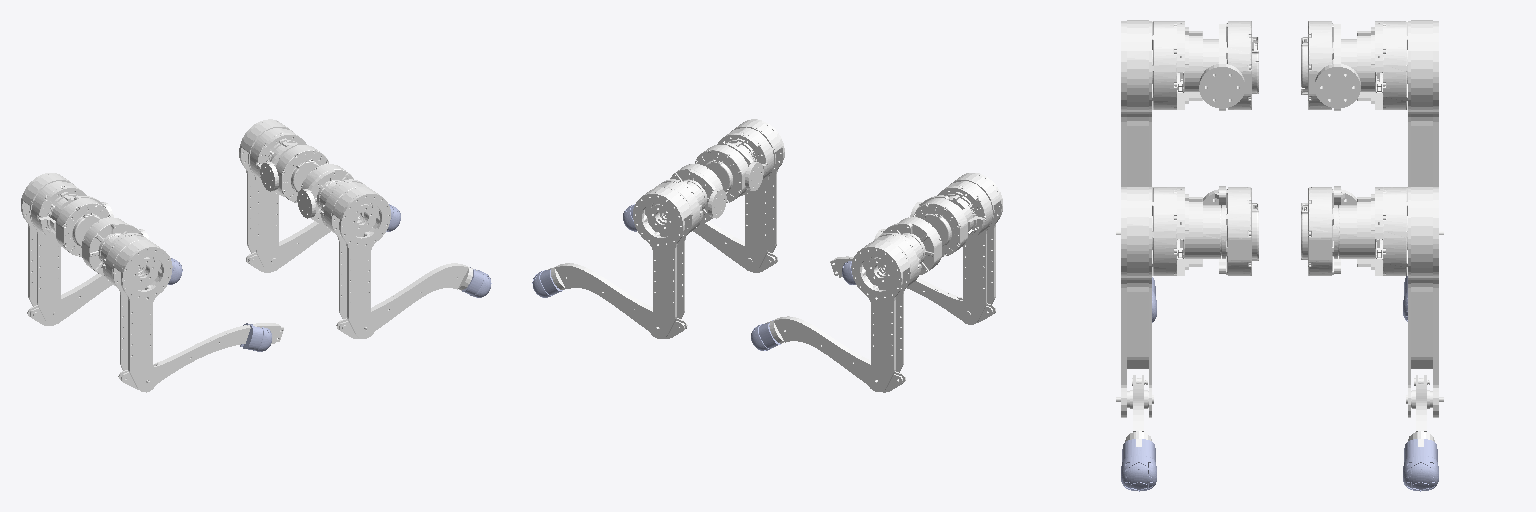
URDF robot description (RCA3):
<?xml version="1.0" encoding="utf-8"?>
<!-- This URDF was automatically created by SolidWorks to URDF Exporter! Originally created by Stephen Brawner (brawner@gmail.com) 
     Commit Version: 1.6.0-4-g7f85cfe  Build Version: 1.6.7995.38578
     For more information, please see http://wiki.ros.org/sw_urdf_exporter -->
<robot
  name="RCA3">
  <link
    name="base">
    <inertial>
      <origin
        xyz="-0.007663 0.00070152 0.044471"
        rpy="0 0 0" />
      <mass
        value="6.5" />
      <inertia
        ixx="0.0422503"
        ixy="0.0001340"
        ixz="0.0000178"
        iyy="0.1133763"
        iyz="-0.0001743"
        izz="0.1335650" />
    </inertial>
    <visual>
      <origin
        xyz="0 0 0"
        rpy="0 0 0" />
      <geometry>
        <mesh
          filename="../meshes/base.STL" />
      </geometry>
      <material
        name="">
        <color
          rgba="1 1 1 1" />
      </material>
    </visual>
    <collision>
      <origin
        xyz="0 0 0.04290"
        rpy="0 0 0" />
      <geometry>
        <box
          size="0.30 0.20000 0.15980" />
      </geometry>
    </collision>
  </link>
  <link
    name="FL_hip">
    <inertial>
      <origin
        xyz="-0.0053275 -0.01473 -5.6037E-05"
        rpy="0 0 0" />
      <mass
        value="0.75" />
      <inertia
        ixx="0.000506153"
        ixy="0.00005690"
        ixz="0.00000137590"
        iyy="0.00094105566"
        iyz="-0.0000005530"
        izz="0.00060520627" />
    </inertial>
    <visual>
      <origin
        xyz="0 0 0"
        rpy="0 0 0" />
      <geometry>
        <mesh
          filename="../meshes/FL_hip.STL" />
      </geometry>
      <material
        name="">
        <color
          rgba="1 1 1 1" />
      </material>
    </visual>
  </link>
  <joint
    name="FL_hip_joint"
    type="revolute">
    <origin
      xyz="0.21285 0.0625 0.05425"
      rpy="0 0 0" />
    <parent
      link="base" />
    <child
      link="FL_hip" />
    <axis
      xyz="1 0 0" />
    <limit
      lower="-1.05"
      upper="1.05"
      effort="23.7"
      velocity="24.8" />
  </joint>
  <link
    name="FL_thigh">
    <inertial>
      <origin
        xyz="-0.0010254 -0.025525 -0.023102"
        rpy="0 0 0" />
      <mass
        value="0.9" />
      <inertia
        ixx="0.00380508"
        ixy="0.0000144621"
        ixz="-0.000105313"
        iyy="0.003499672"
        iyz="0.00064283"
        izz="0.00114430" />
    </inertial>
    <visual>
      <origin
        xyz="0 0 0"
        rpy="0 0 0" />
      <geometry>
        <mesh
          filename="../meshes/FL_thigh.STL" />
      </geometry>
      <material
        name="">
        <color
          rgba="1 1 1 1" />
      </material>
    </visual>
    <collision>
      <origin
        xyz="0 -0.0345 0.0050"
        rpy="1.57079632679 0 0" />
      <geometry>
        <cylinder
          radius="0.045"
          length="0.1068" />
      </geometry>
    </collision>
    <collision>
      <origin
        xyz="-0.011 0.0030 -0.1075"
        rpy="0 0.000 0" />
      <geometry>
        <cylinder
          radius="0.015"
          length="0.115" />
      </geometry>
    </collision>
  </link>
  <joint
    name="FL_thigh_joint"
    type="revolute">
    <origin
      xyz="0 0.0904 0"
      rpy="0 0 0" />
    <parent
      link="FL_hip" />
    <child
      link="FL_thigh" />
    <axis
      xyz="0 1 0" />
    <limit
      lower="-1.57"
      upper="3.49"
      effort="23.7"
      velocity="24.8" />
  </joint>
  <link
    name="FL_calf">
    <inertial>
      <origin
        xyz="0.01968 -1.185E-06 -0.10487"
        rpy="0 0 0" />
      <mass
        value="0.15" />
      <inertia
        ixx="0.000493"
        ixy="-0.0000000006"
        ixz="0.00008487"
        iyy="0.000520527"
        iyz="0.000000014"
        izz="0.00003049" />
    </inertial>
    <visual>
      <origin
        xyz="0 0 0"
        rpy="0 0 0" />
      <geometry>
        <mesh
          filename="../meshes/FL_calf.STL" />
      </geometry>
      <material
        name="">
        <color
          rgba="1 1 1 1" />
      </material>
    </visual>
    <collision>
      <origin
        xyz="0.016 0 -0.07"
        rpy="0 -0.2900 0" />
      <geometry>
        <cylinder
          radius="0.0150"
          length="0.18" />
      </geometry>
    </collision>
  </link>
  <joint
    name="FL_calf_joint"
    type="revolute">
    <origin
      xyz="0 0 -0.2"
      rpy="0 0 0" />
    <parent
      link="FL_thigh" />
    <child
      link="FL_calf" />
    <axis
      xyz="0 1 0" />
    <limit
      lower="-2.45"
      upper="-0.84"
      effort="23.7"
      velocity="24.8" />
  </joint>
  <link
    name="FL_foot">
    <inertial>
      <origin
        xyz="0.0067534 0.00026524 0.0092341"
        rpy="0 0 0" />
      <mass
        value="0.05" />
      <inertia
        ixx="0.000012"
        ixy="-0.00000004"
        ixz="-0.0000008"
        iyy="0.00001368"
        iyz="-0.000000055"
        izz="0.00001144" />
    </inertial>
    <visual>
      <origin
        xyz="0 0 0"
        rpy="0 0 0" />
      <geometry>
        <mesh
          filename="../meshes/FL_foot.STL" />
      </geometry>
      <material
        name="">
        <color
          rgba="0.79216 0.81961 0.93333 1" />
      </material>
    </visual>
    <collision>
      <origin
        xyz="0.0030 0.0002 0.0040"
        rpy="0 0 0" />
      <geometry>
        <sphere
          radius="0.02" />
      </geometry>
    </collision>
    <collision>
      <origin
        xyz="0.027 0.0002 0.038"
        rpy="0 -0.9 0" />
      <geometry>
        <box
          size="0.034 0.026 0.033" />
      </geometry>
    </collision>
  </link>
  <joint
    name="FL_foot_joint"
    type="fixed"
    dont_collapse="true">
    <origin
      xyz="-9.4519E-05 -0.0005 -0.23563"
      rpy="0 0 0" />
    <parent
      link="FL_calf" />
    <child
      link="FL_foot" />
    <axis
      xyz="0 0 0" />
  </joint>
  <link
    name="FR_hip">
    <inertial>
      <origin
        xyz="-0.0053275 0.01473 5.6037E-05"
        rpy="0 0 0" />
      <mass
        value="0.75" />
      <inertia
        ixx="0.000506153"
        ixy="-0.00005690"
        ixz="-0.00000137590"
        iyy="0.00094105566"
        iyz="-0.0000005530"
        izz="0.00060520627" />
    </inertial>
    <visual>
      <origin
        xyz="0 0 0"
        rpy="0 0 0" />
      <geometry>
        <mesh
          filename="../meshes/FR_hip.STL" />
      </geometry>
      <material
        name="">
        <color
          rgba="1 1 1 1" />
      </material>
    </visual>
  </link>
  <joint
    name="FR_hip_joint"
    type="revolute">
    <origin
      xyz="0.21285 -0.0625 0.05425"
      rpy="0 0 0" />
    <parent
      link="base" />
    <child
      link="FR_hip" />
    <axis
      xyz="1 0 0" />
    <limit
      lower="-1.05"
      upper="1.05"
      effort="23.7"
      velocity="24.8" />
  </joint>
  <link
    name="FR_thigh">
    <inertial>
      <origin
        xyz="-0.0010254 0.025525 -0.023102"
        rpy="0 0 0" />
      <mass
        value="0.9" />
      <inertia
        ixx="0.00380508"
        ixy="-0.0000144621"
        ixz="-0.000105313"
        iyy="0.003499672"
        iyz="-0.00064283"
        izz="0.00114430" />
    </inertial>
    <visual>
      <origin
        xyz="0 0 0"
        rpy="0 0 0" />
      <geometry>
        <mesh
          filename="../meshes/FR_thigh.STL" />
      </geometry>
      <material
        name="">
        <color
          rgba="1 1 1 1" />
      </material>
    </visual>
    <collision>
      <origin
        xyz="0 0.0345 0.0050"
        rpy="1.57079632679 0 0" />
      <geometry>
        <cylinder
          radius="0.045"
          length="0.1068" />
      </geometry>
    </collision>
    <collision>
      <origin
        xyz="-0.011 -0.0030 -0.1075"
        rpy="0 0.0 0" />
      <geometry>
        <cylinder
          radius="0.015"
          length="0.115" />
      </geometry>
    </collision>
  </link>
  <joint
    name="FR_thigh_joint"
    type="revolute">
    <origin
      xyz="0 -0.0904 0"
      rpy="0 0 0" />
    <parent
      link="FR_hip" />
    <child
      link="FR_thigh" />
    <axis
      xyz="0 1 0" />
    <limit
      lower="-1.57"
      upper="3.49"
      effort="23.7"
      velocity="24.8" />
  </joint>
  <link
    name="FR_calf">
    <inertial>
      <origin
        xyz="0.01968 -1.185E-06 -0.10487"
        rpy="0 0 0" />
      <mass
        value="0.15" />
      <inertia
        ixx="0.000493"
        ixy="-0.0000000006"
        ixz="0.00008487"
        iyy="0.000520527"
        iyz="0.000000014"
        izz="0.00003049" />
    </inertial>
    <visual>
      <origin
        xyz="0 0 0"
        rpy="0 0 0" />
      <geometry>
        <mesh
          filename="../meshes/FR_calf.STL" />
      </geometry>
      <material
        name="">
        <color
          rgba="1 1 1 1" />
      </material>
    </visual>
    <collision>
      <origin
        xyz="0.016 0 -0.07"
        rpy="0 -0.2900 0" />
      <geometry>
        <cylinder
          radius="0.0150"
          length="0.18" />
      </geometry>
    </collision>
  </link>
  <joint
    name="FR_calf_joint"
    type="revolute">
    <origin
      xyz="0 0 -0.2"
      rpy="0 0 0" />
    <parent
      link="FR_thigh" />
    <child
      link="FR_calf" />
    <axis
      xyz="0 1 0" />
    <limit
      lower="-2.45"
      upper="-0.84"
      effort="23.7"
      velocity="24.8" />
  </joint>
  <link
    name="FR_foot">
    <inertial>
      <origin
        xyz="0.0067531 -0.00026524 0.0092343"
        rpy="0 0 0" />
      <mass
        value="0.05" />
      <inertia
        ixx="0.000012"
        ixy="0.00000004"
        ixz="-0.0000008"
        iyy="0.00001368"
        iyz="0.000000055"
        izz="0.00001144" />
    </inertial>
    <visual>
      <origin
        xyz="0 0 0"
        rpy="0 0 0" />
      <geometry>
        <mesh
          filename="../meshes/FR_foot.STL" />
      </geometry>
      <material
        name="">
        <color
          rgba="0.79216 0.81961 0.93333 1" />
      </material>
    </visual>
    <collision>
      <origin
        xyz="0.0030 -0.0002 0.0040"
        rpy="0 0 0" />
      <geometry>
        <sphere
          radius="0.02" />
      </geometry>
    </collision>
    <collision>
      <origin
        xyz="0.0270 -0.0002 0.038"
        rpy="0 -0.9 0" />
      <geometry>
        <box
          size="0.034 0.026 0.033" />
      </geometry>
    </collision>
  </link>
  <joint
    name="FR_foot_joint"
    type="fixed"
    dont_collapse="true">
    <origin
      xyz="-9.45E-05 0.0005 -0.23563"
      rpy="0 0 0" />
    <parent
      link="FR_calf" />
    <child
      link="FR_foot" />
    <axis
      xyz="0 0 0" />
  </joint>
  <link
    name="RL_hip">
    <inertial>
      <origin
        xyz="0.0053275 -0.01473 5.6037E-05"
        rpy="0 0 0" />
      <mass
        value="0.75" />
      <inertia
        ixx="0.000506153"
        ixy="-0.00005690"
        ixz="0.00000137590"
        iyy="0.00094105566"
        iyz="0.0000005530"
        izz="0.00060520627" />
    </inertial>
    <visual>
      <origin
        xyz="0 0 0"
        rpy="0 0 0" />
      <geometry>
        <mesh
          filename="../meshes/RL_hip.STL" />
      </geometry>
      <material
        name="">
        <color
          rgba="1 1 1 1" />
      </material>
    </visual>
  </link>
  <joint
    name="RL_hip_joint"
    type="revolute">
    <origin
      xyz="-0.21285 0.0625 0.05425"
      rpy="0 0 0" />
    <parent
      link="base" />
    <child
      link="RL_hip" />
    <axis
      xyz="1 0 0" />
    <limit
      lower="-1.05"
      upper="1.05"
      effort="23.7"
      velocity="24.8" />
  </joint>
  <link
    name="RL_thigh">
    <inertial>
      <origin
        xyz="-0.0010254 -0.025525 -0.023102"
        rpy="0 0 0" />
      <mass
        value="0.9" />
      <inertia
        ixx="0.00380508"
        ixy="0.0000144621"
        ixz="-0.000105313"
        iyy="0.003499672"
        iyz="0.00064283"
        izz="0.00114430" />
    </inertial>
    <visual>
      <origin
        xyz="0 0 0"
        rpy="0 0 0" />
      <geometry>
        <mesh
          filename="../meshes/RL_thigh.STL" />
      </geometry>
      <material
        name="">
        <color
          rgba="1 1 1 1" />
      </material>
    </visual>
    <collision>
      <origin
        xyz="0 -0.0345 0.0050"
        rpy="1.57079632679 0 0" />
      <geometry>
        <cylinder
          radius="0.045"
          length="0.1068" />
      </geometry>
    </collision>
    <collision>
      <origin
        xyz="-0.011 0.0030 -0.1075"
        rpy="0 0.0 0" />
      <geometry>
        <cylinder
          radius="0.015"
          length="0.115" />
      </geometry>
    </collision>
  </link>
  <joint
    name="RL_thigh_joint"
    type="revolute">
    <origin
      xyz="0 0.0904 0"
      rpy="0 0 0" />
    <parent
      link="RL_hip" />
    <child
      link="RL_thigh" />
    <axis
      xyz="0 1 0" />
    <limit
      lower="-0.52"
      upper="4.54"
      effort="23.7"
      velocity="24.8" />
  </joint>
  <link
    name="RL_calf">
    <inertial>
      <origin
        xyz="0.01968 -1.185E-06 -0.10487"
        rpy="0 0 0" />
      <mass
        value="0.15" />
      <inertia
        ixx="0.000493"
        ixy="-0.0000000006"
        ixz="0.00008487"
        iyy="0.000520527"
        iyz="0.000000014"
        izz="0.00003049" />
    </inertial>
    <visual>
      <origin
        xyz="0 0 0"
        rpy="0 0 0" />
      <geometry>
        <mesh
          filename="../meshes/RL_calf.STL" />
      </geometry>
      <material
        name="">
        <color
          rgba="1 1 1 1" />
      </material>
    </visual>
    <collision>
      <origin
        xyz="0.016 0 -0.07"
        rpy="0 -0.2900 0" />
      <geometry>
        <cylinder
          radius="0.0150"
          length="0.18" />
      </geometry>
    </collision>
  </link>
  <joint
    name="RL_calf_joint"
    type="revolute">
    <origin
      xyz="0 0 -0.2"
      rpy="0 0 0" />
    <parent
      link="RL_thigh" />
    <child
      link="RL_calf" />
    <axis
      xyz="0 1 0" />
    <limit
      lower="-2.45"
      upper="-0.84"
      effort="23.7"
      velocity="24.8" />
  </joint>
  <link
    name="RL_foot">
    <inertial>
      <origin
        xyz="0.0067534 0.00026524 0.0092341"
        rpy="0 0 0" />
      <mass
        value="0.05" />
      <inertia
        ixx="0.000012"
        ixy="-0.00000004"
        ixz="-0.0000008"
        iyy="0.00001368"
        iyz="-0.000000055"
        izz="0.00001144" />
    </inertial>
    <visual>
      <origin
        xyz="0 0 0"
        rpy="0 0 0" />
      <geometry>
        <mesh
          filename="../meshes/RL_foot.STL" />
      </geometry>
      <material
        name="">
        <color
          rgba="0.79216 0.81961 0.93333 1" />
      </material>
    </visual>
    <collision>
      <origin
        xyz="0.0030 0.0002 0.0040"
        rpy="0 0 0" />
      <geometry>
        <sphere
          radius="0.02" />
      </geometry>
    </collision>
    <collision>
      <origin
        xyz="0.0270 0.0002 0.038"
        rpy="0 -0.9 0" />
      <geometry>
        <box
          size="0.034 0.026 0.033" />
      </geometry>
    </collision>
  </link>
  <joint
    name="RL_foot_joint"
    type="fixed"
    dont_collapse="true">
    <origin
      xyz="-9.4519E-05 -0.0005 -0.23563"
      rpy="0 0 0" />
    <parent
      link="RL_calf" />
    <child
      link="RL_foot" />
    <axis
      xyz="0 0 0" />
  </joint>
  <link
    name="RR_hip">
    <inertial>
      <origin
        xyz="0.0053275 0.01473 -5.6037E-05"
        rpy="0 0 0" />
      <mass
        value="0.75" />
      <inertia
        ixx="0.000506153"
        ixy="0.00005690"
        ixz="-0.00000137590"
        iyy="0.00094105566"
        iyz="0.0000005530"
        izz="0.00060520627" />
    </inertial>
    <visual>
      <origin
        xyz="0 0 0"
        rpy="0 0 0" />
      <geometry>
        <mesh
          filename="../meshes/RR_hip.STL" />
      </geometry>
      <material
        name="">
        <color
          rgba="1 1 1 1" />
      </material>
    </visual>
  </link>
  <joint
    name="RR_hip_joint"
    type="revolute">
    <origin
      xyz="-0.21285 -0.0625 0.05425"
      rpy="0 0 0" />
    <parent
      link="base" />
    <child
      link="RR_hip" />
    <axis
      xyz="1 0 0" />
    <limit
      lower="-1.05"
      upper="1.05"
      effort="23.7"
      velocity="24.8" />
  </joint>
  <link
    name="RR_thigh">
    <inertial>
      <origin
        xyz="-0.0010254 0.025525 -0.023102"
        rpy="0 0 0" />
      <mass
        value="0.9" />
      <inertia
        ixx="0.00380508"
        ixy="-0.0000144621"
        ixz="-0.000105313"
        iyy="0.003499672"
        iyz="-0.00064283"
        izz="0.00114430" />
    </inertial>
    <visual>
      <origin
        xyz="0 0 0"
        rpy="0 0 0" />
      <geometry>
        <mesh
          filename="../meshes/RR_thigh.STL" />
      </geometry>
      <material
        name="">
        <color
          rgba="1 1 1 1" />
      </material>
    </visual>
    <collision>
      <origin
        xyz="0 0.0345 0.0050"
        rpy="1.57079632679 0 0" />
      <geometry>
        <cylinder
          radius="0.045"
          length="0.1068" />
      </geometry>
    </collision>
    <collision>
      <origin
        xyz="-0.011 -0.0030 -0.1075"
        rpy="0 0.0 0" />
      <geometry>
        <cylinder
          radius="0.015"
          length="0.115" />
      </geometry>
    </collision>
  </link>
  <joint
    name="RR_thigh_joint"
    type="revolute">
    <origin
      xyz="0 -0.0904 0"
      rpy="0 0 0" />
    <parent
      link="RR_hip" />
    <child
      link="RR_thigh" />
    <axis
      xyz="0 1 0" />
    <limit
      lower="-0.52"
      upper="4.54"
      effort="23.7"
      velocity="24.8" />
  </joint>
  <link
    name="RR_calf">
    <inertial>
      <origin
        xyz="0.01968 -1.185E-06 -0.10487"
        rpy="0 0 0" />
      <mass
        value="0.15" />
      <inertia
        ixx="0.000493"
        ixy="-0.0000000006"
        ixz="0.00008487"
        iyy="0.000520527"
        iyz="0.000000014"
        izz="0.00003049" />
    </inertial>
    <visual>
      <origin
        xyz="0 0 0"
        rpy="0 0 0" />
      <geometry>
        <mesh
          filename="../meshes/RR_calf.STL" />
      </geometry>
      <material
        name="">
        <color
          rgba="1 1 1 1" />
      </material>
    </visual>
    <collision>
      <origin
        xyz="0.016 0 -0.07"
        rpy="0 -0.2900 0" />
      <geometry>
        <cylinder
          radius="0.0150"
          length="0.18" />
      </geometry>
    </collision>
  </link>
  <joint
    name="RR_calf_joint"
    type="revolute">
    <origin
      xyz="0 0 -0.2"
      rpy="0 0 0" />
    <parent
      link="RR_thigh" />
    <child
      link="RR_calf" />
    <axis
      xyz="0 1 0" />
    <limit
      lower="-2.45"
      upper="-0.84"
      effort="23.7"
      velocity="24.8" />
  </joint>
  <link
    name="RR_foot">
    <inertial>
      <origin
        xyz="0.0067531 -0.00026524 0.0092343"
        rpy="0 0 0" />
      <mass
        value="0.05" />
      <inertia
        ixx="0.000012"
        ixy="0.00000004"
        ixz="-0.0000008"
        iyy="0.00001368"
        iyz="0.000000055"
        izz="0.00001144" />
    </inertial>
    <visual>
      <origin
        xyz="0 0 0"
        rpy="0 0 0" />
      <geometry>
        <mesh
          filename="../meshes/RR_foot.STL" />
      </geometry>
      <material
        name="">
        <color
          rgba="0.79216 0.81961 0.93333 1" />
      </material>
    </visual>
    <collision>
      <origin
        xyz="0.0030 -0.0002 0.0040"
        rpy="0 0 0" />
      <geometry>
        <sphere
          radius="0.02" />
      </geometry>
    </collision>
    <collision>
      <origin
        xyz="0.0270 -0.0002 0.038"
        rpy="0 -0.9 0" />
      <geometry>
        <box
          size="0.034 0.026 0.033" />
      </geometry>
    </collision>
  </link>
  <joint
    name="RR_foot_joint"
    type="fixed"
    dont_collapse="true">
    <origin
      xyz="-9.45E-05 0.0005 -0.23563"
      rpy="0 0 0" />
    <parent
      link="RR_calf" />
    <child
      link="RR_foot" />
    <axis
      xyz="0 0 0" />
  </joint>
</robot>

--- Facts derived from the render (not from the file) ---
The picture shows the robot from 3 angles, left to right: view 1: azimuth 30°, elevation 25°; view 2: azimuth 150°, elevation 25°; view 3: azimuth 270°, elevation 25°; orthographic projection.
Robot: RCA3 — 17 links, 16 joints (12 revolute, 4 fixed); root link base; default pose: all joints at 0 but 4 set to mid-range because 0 is outside their limits (FL_calf_joint = -1.65, FR_calf_joint = -1.65, RL_calf_joint = -1.65, RR_calf_joint = -1.65).
Links seen in each view (by area): view 1: RR_thigh, FR_thigh, RL_thigh, FL_thigh, FR_calf, FL_hip, RR_calf, RL_hip, FR_hip, RR_hip, RL_calf, FL_calf (+1 smaller); view 2: RL_thigh, FL_thigh, RR_thigh, FR_thigh, FL_calf, RL_calf, FR_hip, RR_hip, FL_hip, RL_hip, RR_calf, FR_calf (+1 smaller); view 3: FL_thigh, FR_thigh, RL_thigh, RR_thigh, RL_hip, RR_hip, FR_hip, FL_hip, FL_foot, FR_foot, FL_calf, FR_calf.
Link boxes in pixels (box(x1,y1,x2,y2)): RR_thigh: box(101, 233, 172, 392); FR_thigh: box(319, 179, 390, 338); RL_thigh: box(21, 173, 86, 324); FL_thigh: box(239, 119, 306, 271); FR_calf: box(336, 263, 476, 338); FL_hip: box(260, 143, 328, 202); RR_calf: box(118, 323, 283, 389); RL_hip: box(56, 196, 113, 256); FR_hip: box(297, 164, 353, 223); RR_hip: box(82, 217, 149, 275); RL_calf: box(27, 274, 112, 325); FL_calf: box(246, 221, 330, 272); RL_thigh: box(851, 233, 922, 391); FL_thigh: box(633, 179, 703, 338); RR_thigh: box(937, 173, 1002, 324); FR_thigh: box(717, 119, 784, 271); FL_calf: box(548, 263, 687, 338); RL_calf: box(766, 316, 905, 392); FR_hip: box(695, 142, 763, 202); RR_hip: box(910, 195, 967, 256); FL_hip: box(670, 164, 726, 223); RL_hip: box(874, 217, 941, 274); RR_calf: box(830, 256, 995, 322); FR_calf: box(693, 221, 777, 272); FL_thigh: box(1340, 187, 1443, 417); FR_thigh: box(1116, 187, 1219, 417); RL_thigh: box(1341, 20, 1443, 234); RR_thigh: box(1116, 20, 1218, 234); RL_hip: box(1301, 21, 1360, 110); RR_hip: box(1199, 21, 1258, 110); FR_hip: box(1203, 186, 1258, 275); FL_hip: box(1301, 186, 1356, 275); FL_foot: box(1403, 439, 1438, 491); FR_foot: box(1121, 439, 1156, 491); FL_calf: box(1408, 375, 1434, 446); FR_calf: box(1125, 375, 1151, 446).
Bounding box of the posed robot: 0.7257 × 0.3556 × 0.2743 m (x, y, z).
Meshes: 17 distinct files referenced, 16 mesh visuals loaded (16 binary STL); not drawn: 1 (reference not matched to a file when rendering).
